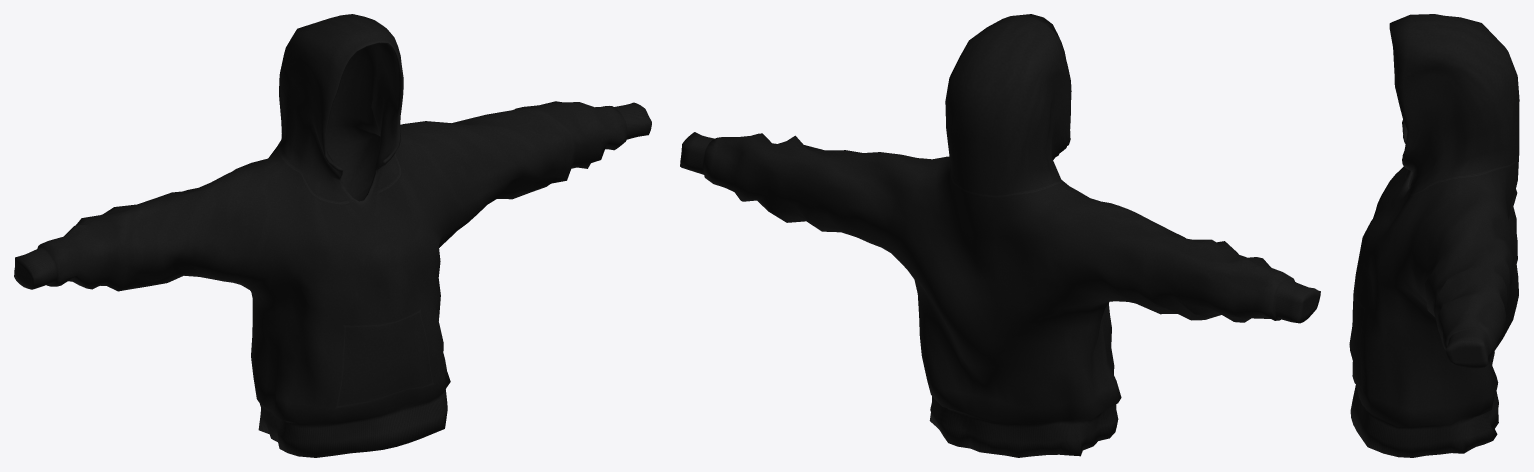
The model's file is hudi.gltf.
3 views of the same model, side by side, from view 1: azimuth 30°, elevation 25°; view 2: azimuth 150°, elevation 25°; view 3: azimuth 270°, elevation 25° (orthographic).
Parts seen in each view (by area): view 1: hudiLP; view 2: hudiLP; view 3: hudiLP.
Part boxes in pixels (<box>): hudiLP: <box>14,14,651,457</box>; hudiLP: <box>680,14,1320,457</box>; hudiLP: <box>1349,14,1519,457</box>.
Bounding box in the file's own units: 20.2 × 12.59 × 4.82.
1 material, 1 textured.
